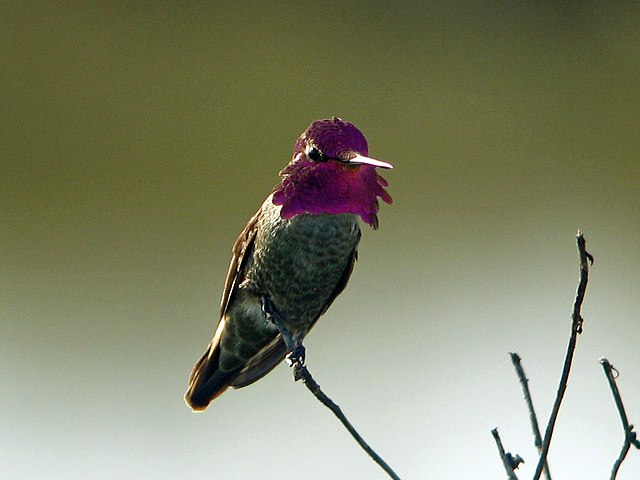calypte anna: (181, 116, 394, 413)
